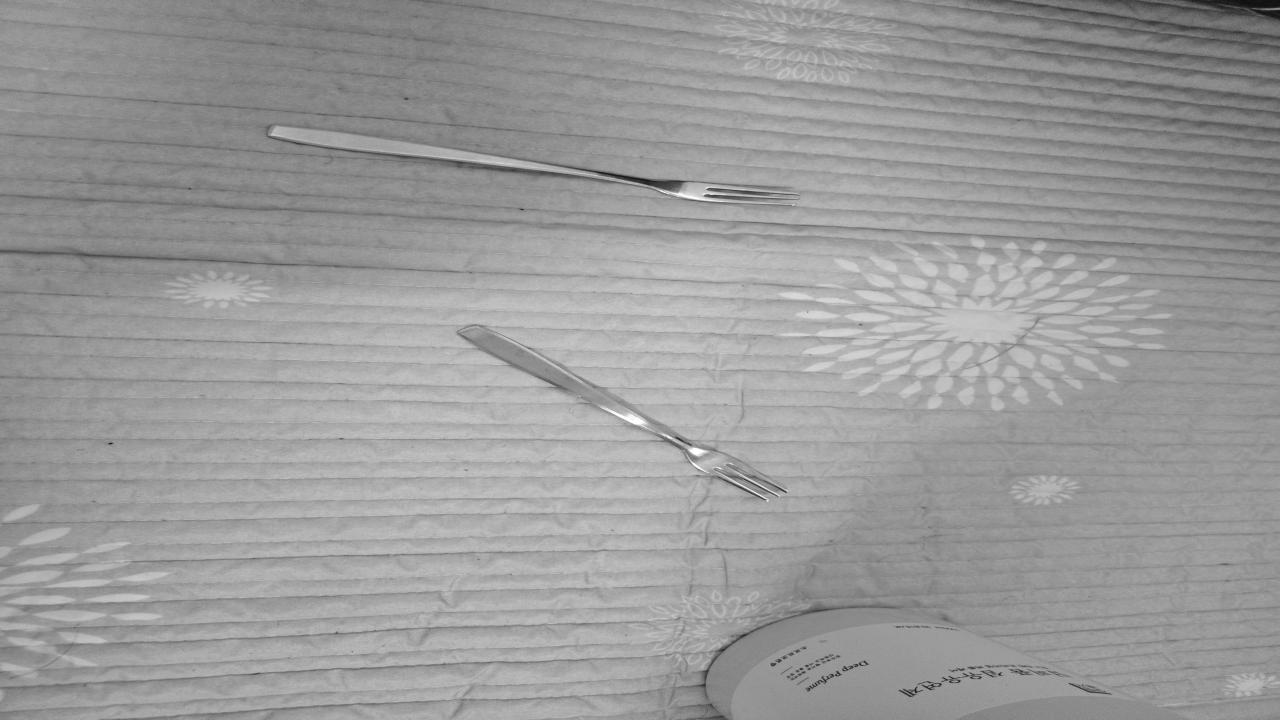fork: (460, 325, 783, 502), (266, 124, 801, 209)
